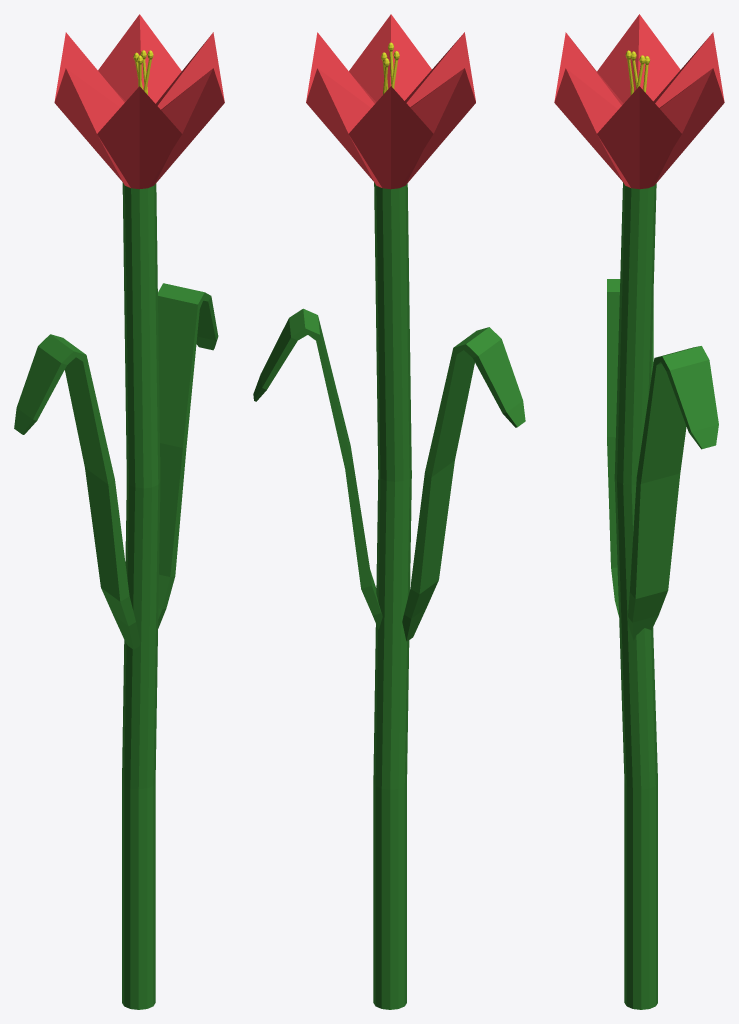
The model's file is Flower3.1.fbx.
The picture shows the model from 3 angles, left to right: view 1: azimuth 30°, elevation 25°; view 2: azimuth 150°, elevation 25°; view 3: azimuth 270°, elevation 25°; orthographic projection.
Parts seen in each view (by area): view 1: Flower3.1; view 2: Flower3.1; view 3: Flower3.1.
Boxes of the visible parts, bbox=[...] form: Flower3.1: bbox=[14, 14, 224, 1009]; Flower3.1: bbox=[253, 14, 525, 1009]; Flower3.1: bbox=[554, 14, 724, 1009].
Size of the model in its own units: 10.72 by 42.1 by 6.81.
